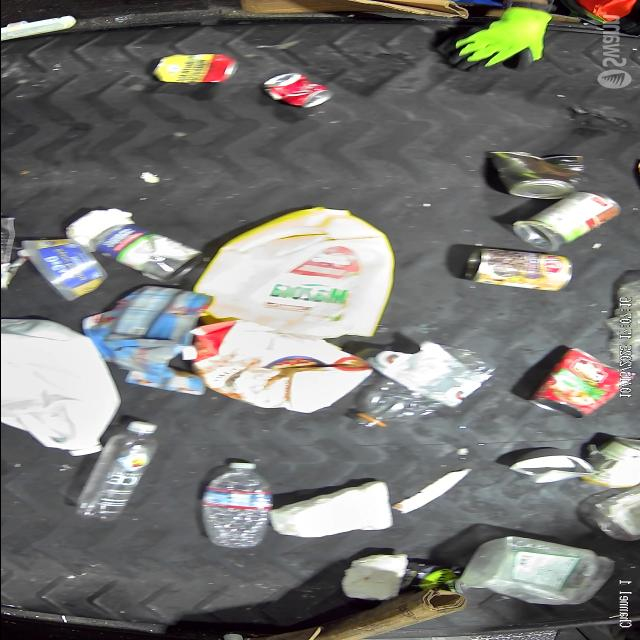can: (530, 350, 630, 418), (506, 195, 614, 249), (465, 246, 569, 288), (498, 149, 584, 198), (516, 452, 594, 486), (149, 56, 239, 85), (264, 74, 334, 104)
milk_jug: (202, 205, 392, 341), (0, 318, 119, 456)
plastic_bottle: (350, 343, 500, 433), (80, 419, 164, 517), (200, 464, 268, 546)
